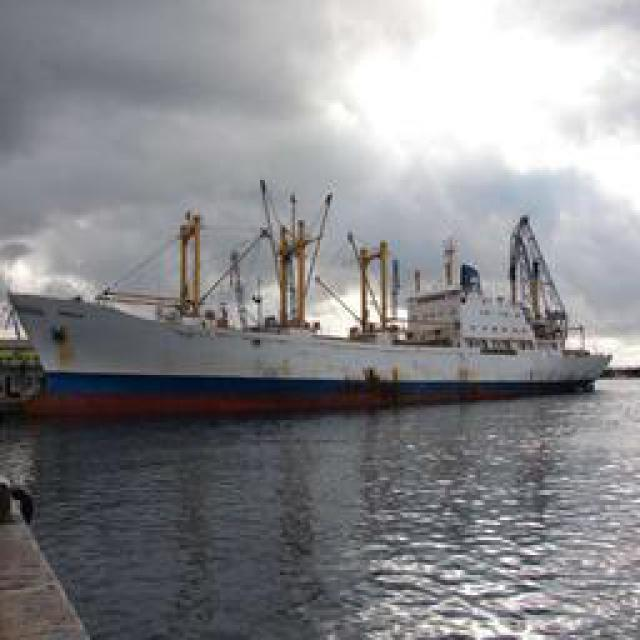Ship: (13, 191, 608, 414)
